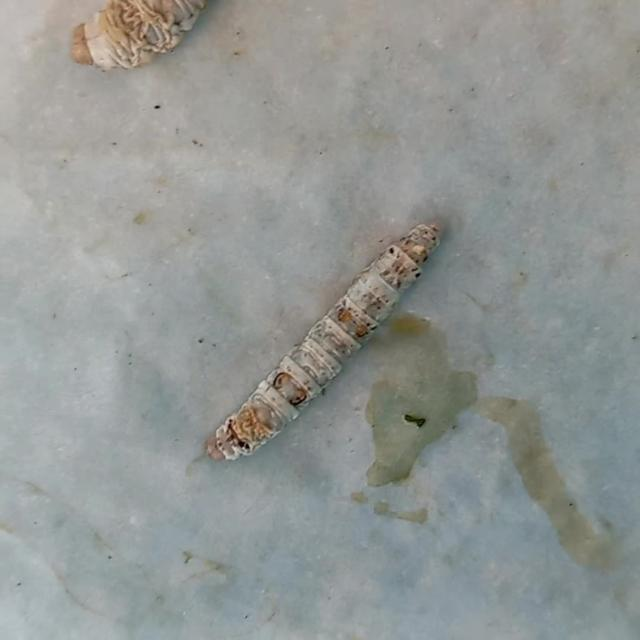Grasserie: (204, 206, 448, 479)
